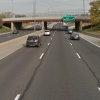Bridge: (4, 10, 90, 27)
